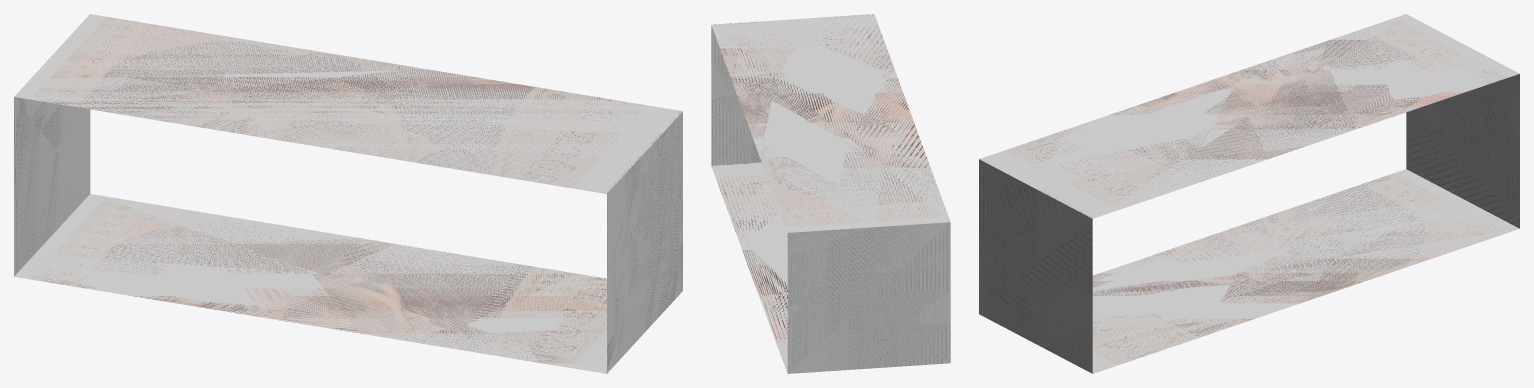
File: original-109.obj
3 views of the same model, side by side, from view 1: azimuth 30°, elevation 25°; view 2: azimuth 150°, elevation 25°; view 3: azimuth 270°, elevation 25° (orthographic). The views are drawn at different scales.
Visible parts, largest first — view 1: Group15/mesh14/mesh14-geometry/material_0#mesh14-geometry; view 2: Group15/mesh14/mesh14-geometry/material_0#mesh14-geometry; view 3: Group15/mesh14/mesh14-geometry/material_0#mesh14-geometry.
Boxes of the visible parts, x1=… form: Group15/mesh14/mesh14-geometry/material_0#mesh14-geometry: x1=14, y1=14, x2=682, y2=373; Group15/mesh14/mesh14-geometry/material_0#mesh14-geometry: x1=711, y1=14, x2=950, y2=373; Group15/mesh14/mesh14-geometry/material_0#mesh14-geometry: x1=979, y1=14, x2=1519, y2=373.
Size of the model in its own units: 0.0767 by 0.027 by 0.0855.
Materials: 2 (1 with a texture image).
